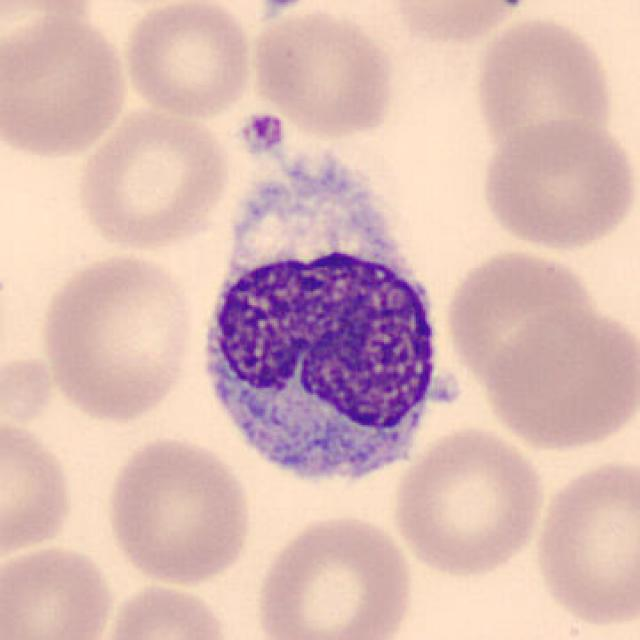Monocyte: (186, 155, 458, 501)
Platelets: (238, 111, 286, 155)
RBC: (36, 248, 198, 425), (390, 423, 548, 578), (101, 432, 256, 589), (73, 104, 233, 254), (480, 302, 636, 453), (441, 243, 597, 393), (474, 113, 636, 254), (469, 12, 619, 162), (252, 509, 417, 640), (254, 0, 406, 138), (0, 12, 132, 162), (530, 452, 638, 630), (119, 0, 256, 122), (0, 539, 117, 640), (0, 414, 76, 558), (94, 580, 233, 640), (0, 0, 96, 83), (390, 0, 534, 46)
